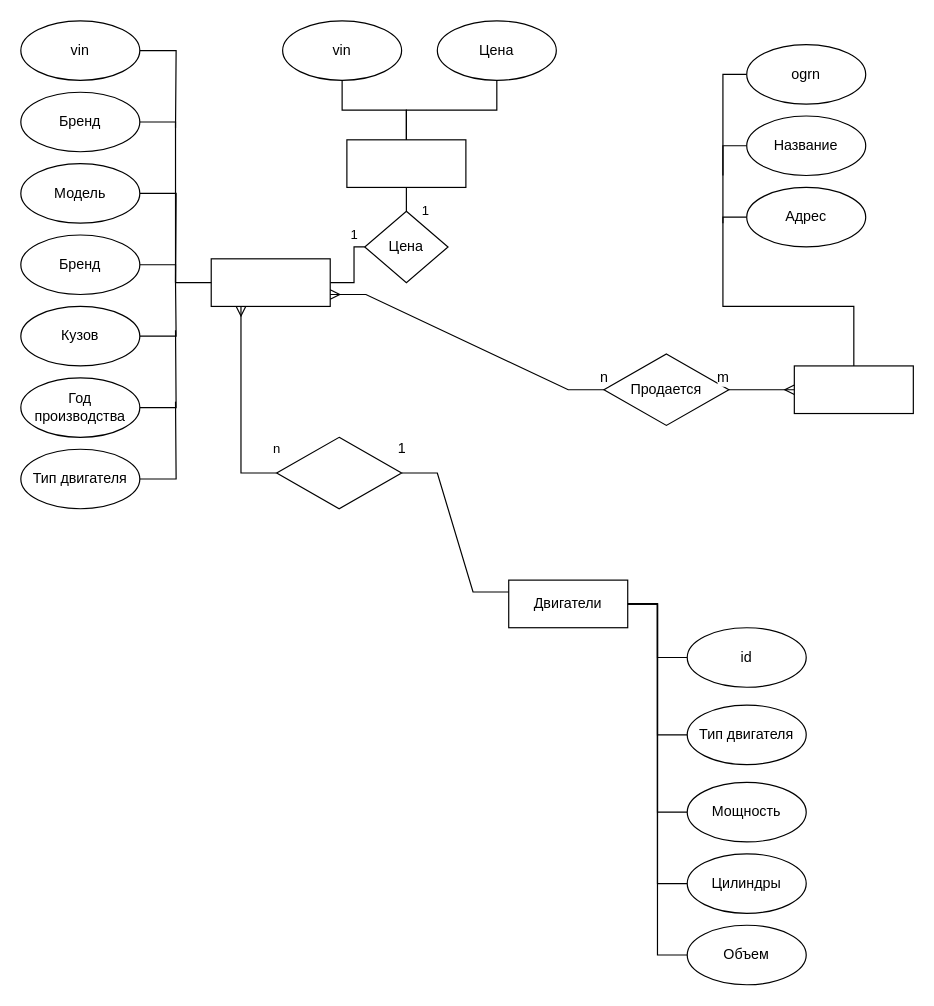
Some shapes in this 934 by 1006 pixel diagram are drawn without their labels. The shapes that lost their labels are listed below. From the top down, each one's centre as x and y in pixels, then its label:
At pixel 406 163: "Цены".
At pixel 270 282: "Машины".
At pixel 853 389: "Салоны".
At pixel 338 472: "Установлен".
